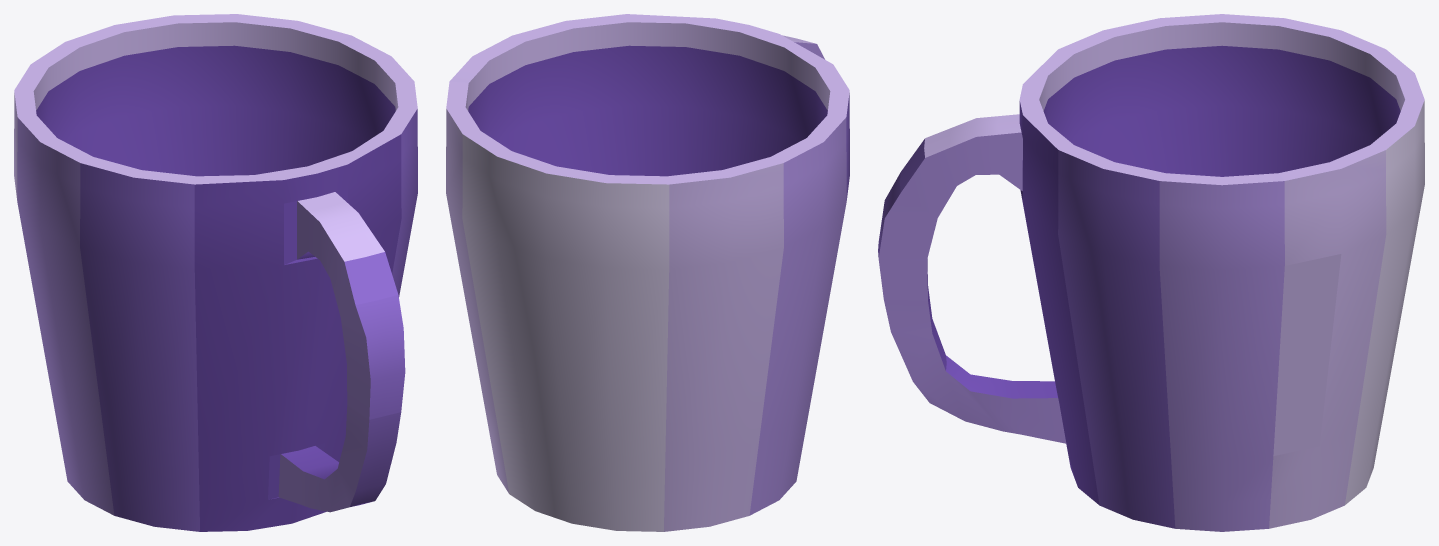
The model's file is bluecup.fbx.
The picture shows the model from 3 angles, left to right: view 1: azimuth 30°, elevation 25°; view 2: azimuth 150°, elevation 25°; view 3: azimuth 270°, elevation 25°; orthographic projection.
Visible parts, largest first — view 1: pCylinder1; view 2: pCylinder1; view 3: pCylinder1.
Part boxes in pixels (box(x1,y1,x2,y2)): pCylinder1: box(14, 14, 417, 531); pCylinder1: box(446, 14, 849, 531); pCylinder1: box(878, 14, 1424, 531).
Size of the model in its own units: 13.96 by 14.18 by 18.83.
1 material, 1 textured.
